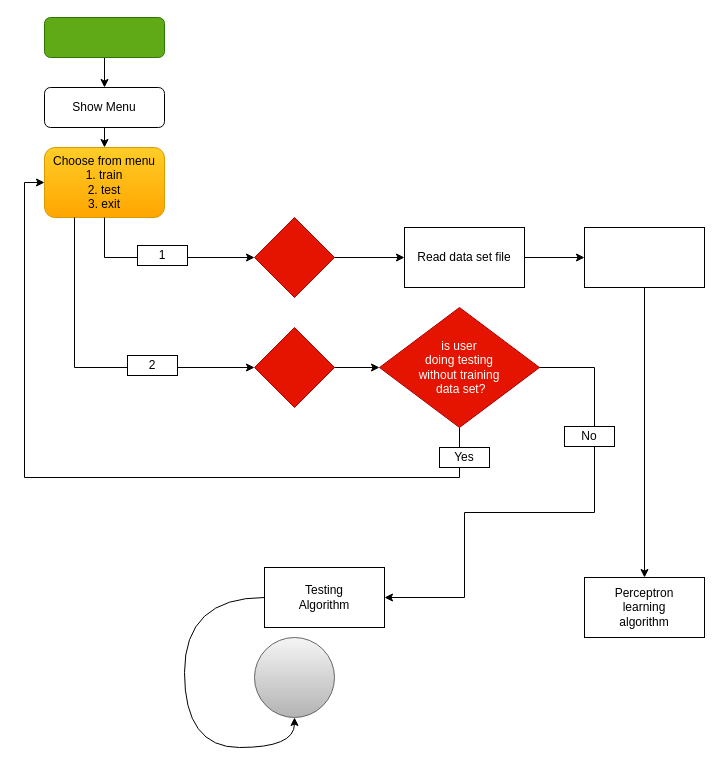
The diagram is 722 pixels wide and 765 high, and some of its shapes have lost their labels. The shapes that lost their labels are listed below. From the top down, each one's centre as x and y in pixels, then its label:
pixel 104 37: Main
pixel 294 257: Train
pixel 644 257: Storing in input and output arrays
pixel 294 367: Test
pixel 294 677: Activation Calculation
